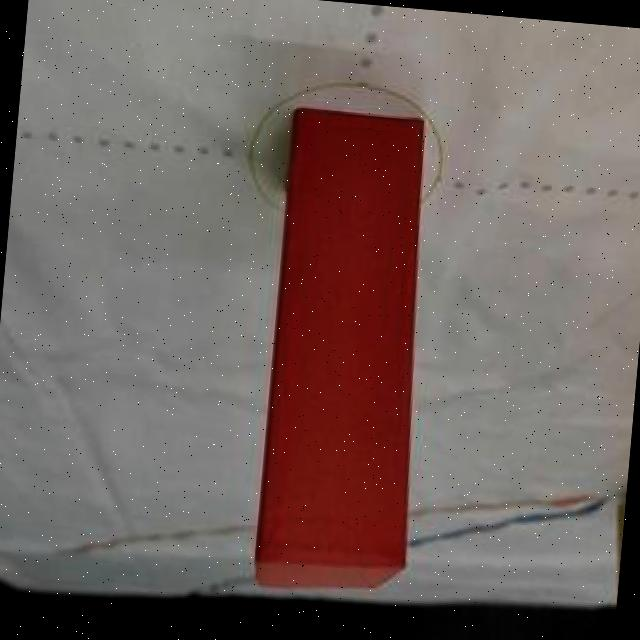redbox: (250, 109, 443, 602)
